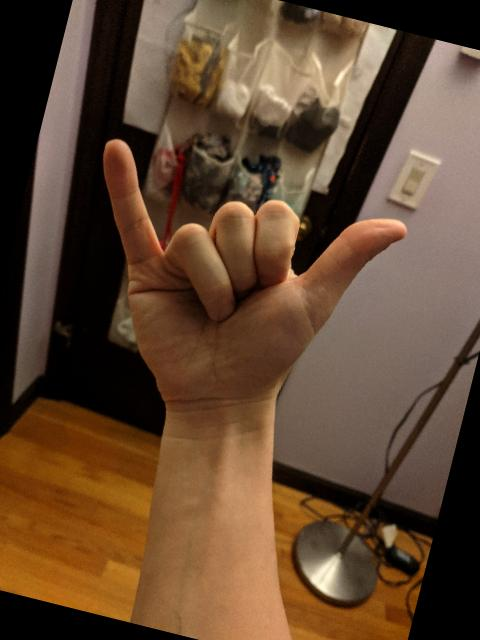Y: (45, 130, 418, 444)
